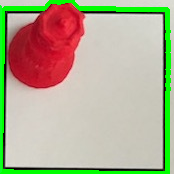Red Queen: (7, 3, 87, 90)
